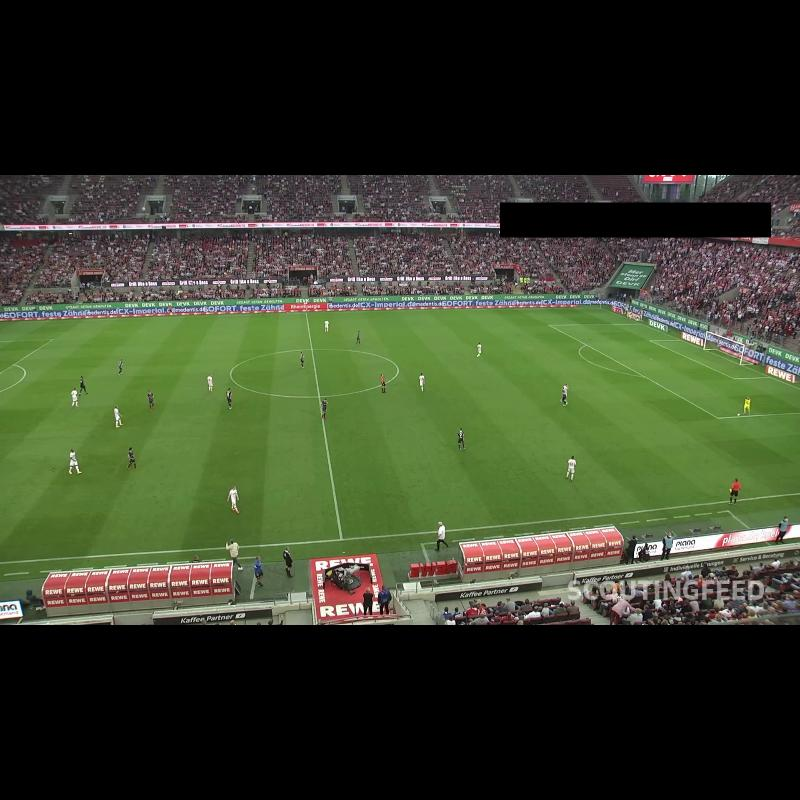cross_recipient_zone: (550, 323, 800, 418), (0, 339, 53, 372)
crossing_player_zone: (615, 413, 800, 502), (0, 319, 149, 341), (461, 308, 639, 326)
pitch: (0, 308, 800, 563)
